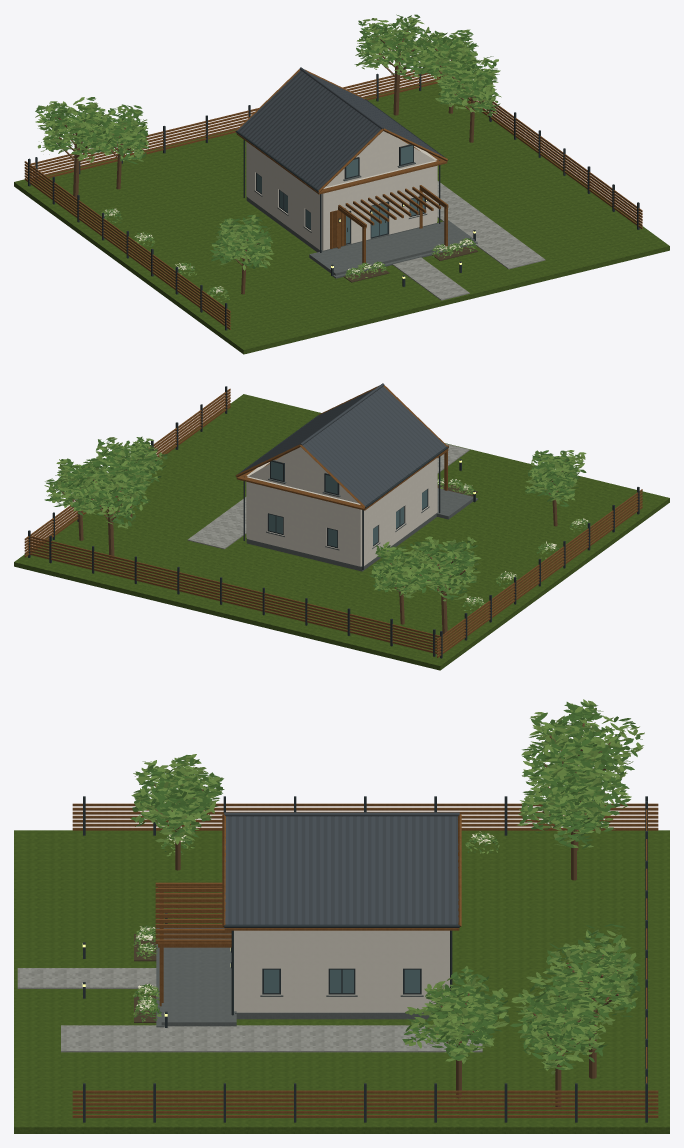
Rendered from casa-06.glb.
3 renders of one model, top to bottom at view 1: azimuth 30°, elevation 25°; view 2: azimuth 150°, elevation 25°; view 3: azimuth 270°, elevation 25°, orthographic. The views are drawn at different scales.
Parts seen in each view (by area): view 1: landscape_grass.005, landscape_wood.005, landscape_leaf.005, landscape_leaf-light.005, architecture_roof.004, architecture_stucco.004, landscape_paving.005, architecture_wood.005, landscape_stone.005, landscape_metal.005, landscape_trunk.005, architecture_metal.005 (+3 smaller); view 2: landscape_grass.005, landscape_wood.005, architecture_stucco.004, architecture_roof.004, landscape_leaf-light.005, landscape_leaf.005, landscape_paving.005, landscape_metal.005, architecture_wood.005, architecture_metal.005, landscape_trunk.005, architecture_glass.005 (+2 smaller); view 3: landscape_grass.005, architecture_roof.004, landscape_leaf.005, landscape_wood.005, landscape_leaf-light.005, architecture_stucco.004, landscape_paving.005, architecture_wood.005, landscape_stone.005, landscape_metal.005, architecture_metal.005, architecture_stone.005 (+3 smaller).
Boxes of the visible parts, box(x1,y1,x2,y2) form: landscape_grass.005: box(14, 81, 669, 354); landscape_wood.005: box(24, 66, 642, 329); landscape_leaf.005: box(35, 14, 500, 304); landscape_leaf-light.005: box(35, 17, 501, 301); architecture_roof.004: box(237, 67, 441, 189); architecture_stucco.004: box(246, 131, 437, 250); landscape_paving.005: box(392, 181, 545, 300); architecture_wood.005: box(236, 69, 448, 268); landscape_stone.005: box(309, 220, 477, 278); landscape_metal.005: box(28, 67, 639, 330); landscape_trunk.005: box(53, 29, 485, 294); architecture_metal.005: box(235, 99, 448, 252); landscape_grass.005: box(14, 394, 669, 670); landscape_wood.005: box(24, 388, 642, 657); architecture_stucco.004: box(246, 447, 437, 566); architecture_roof.004: box(242, 383, 446, 505); landscape_leaf-light.005: box(44, 437, 591, 610); landscape_leaf.005: box(44, 436, 591, 612); landscape_paving.005: box(187, 443, 469, 549); landscape_metal.005: box(28, 386, 639, 658); architecture_wood.005: box(236, 385, 448, 510); architecture_metal.005: box(235, 415, 448, 569); landscape_trunk.005: box(61, 458, 562, 634); architecture_glass.005: box(269, 461, 427, 546); landscape_grass.005: box(14, 830, 669, 1133); architecture_roof.004: box(224, 812, 459, 924); landscape_leaf.005: box(130, 701, 642, 1069); landscape_wood.005: box(72, 803, 658, 1117); landscape_leaf-light.005: box(131, 699, 644, 1074); architecture_stucco.004: box(234, 930, 449, 1012); landscape_paving.005: box(17, 968, 482, 1052); architecture_wood.005: box(155, 813, 461, 1006); landscape_stone.005: box(156, 928, 236, 1027); landscape_metal.005: box(83, 796, 647, 1122); architecture_metal.005: box(224, 924, 459, 1015); architecture_stone.005: box(235, 995, 431, 1019).
Size of the model in its own units: 30.3 by 8.14 by 28.
Materials: 16 (5 with a texture image).
